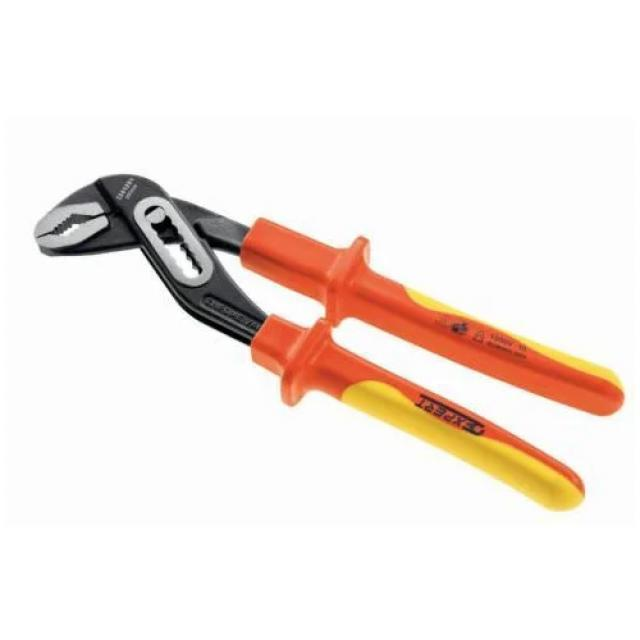pliers: (27, 167, 630, 519)
